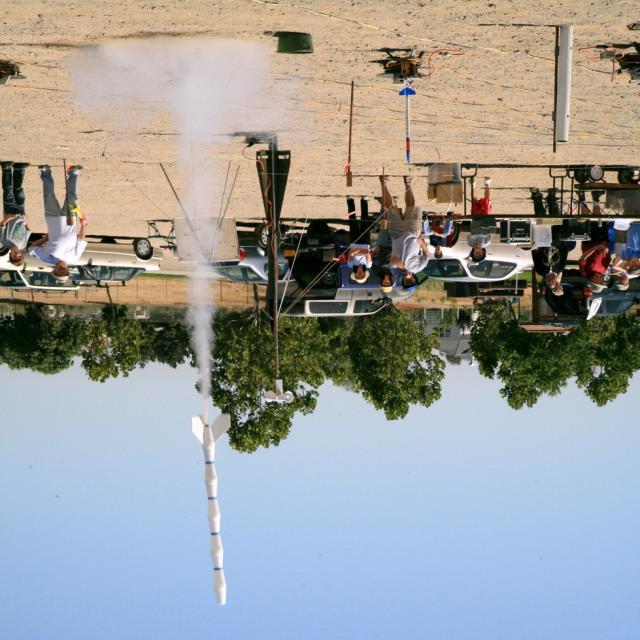missile: (195, 412, 236, 613)
